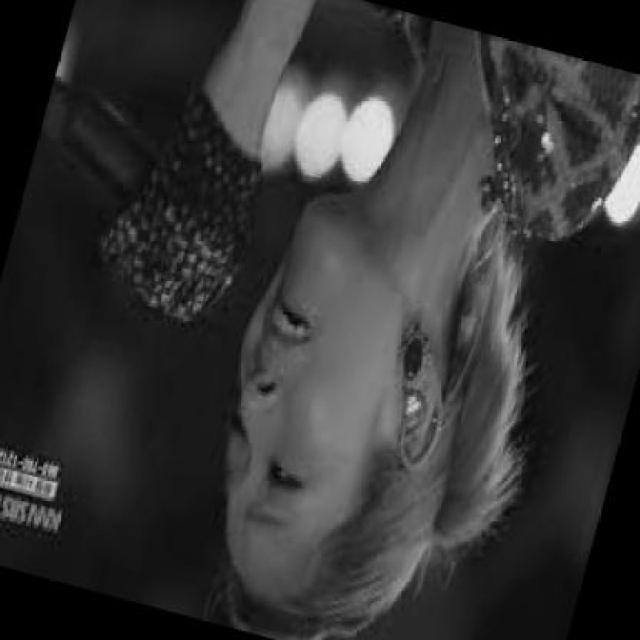earphone: (400, 324, 437, 402)
